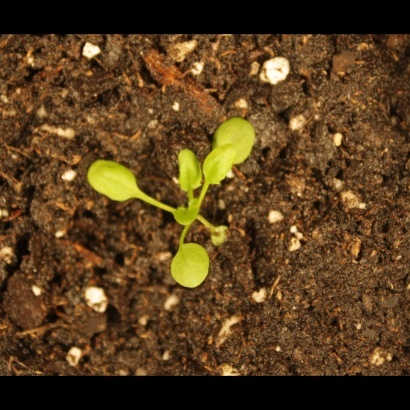leaf: (81, 151, 148, 209), (160, 234, 215, 295), (208, 113, 263, 168), (169, 146, 208, 193), (201, 140, 234, 194), (170, 199, 203, 234), (209, 224, 234, 247)
